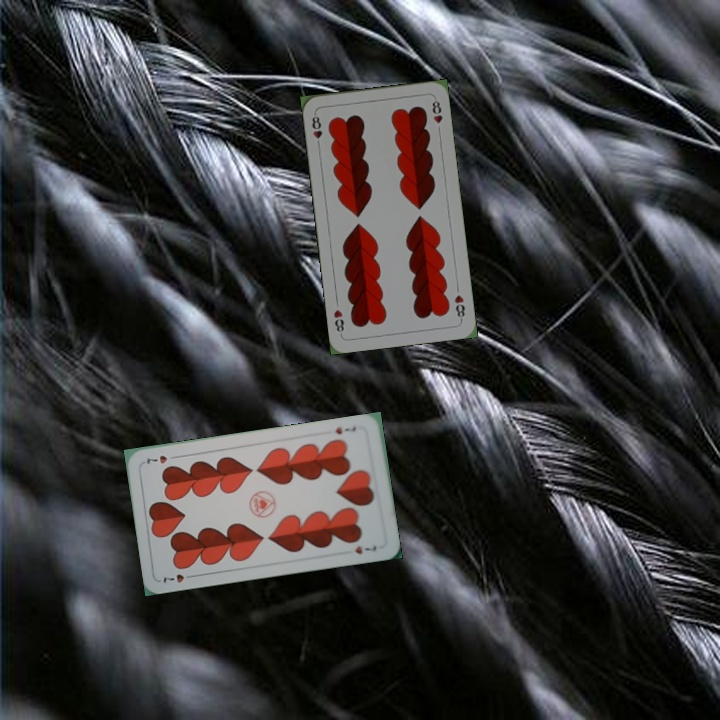H7: (159, 570, 198, 585), (331, 423, 359, 437)
H8: (308, 109, 325, 150), (450, 291, 467, 323)
